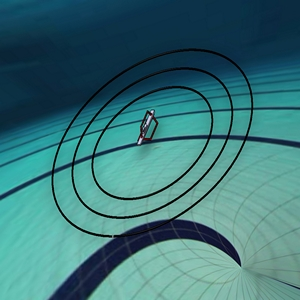circle: (41, 40, 272, 251)
submarine: (131, 104, 167, 151)
